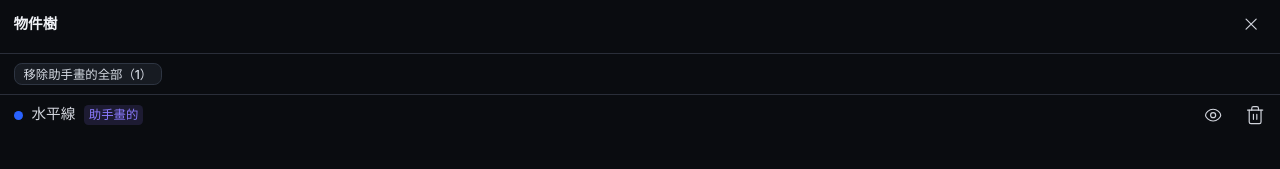
Test: 物件樹：助手畫的 › 確認時按取消：什麼都不交出，回到原本的按鈕
Click the button with test id "remove-assistant-drawings": (88, 74) 14,63 -> 162,85
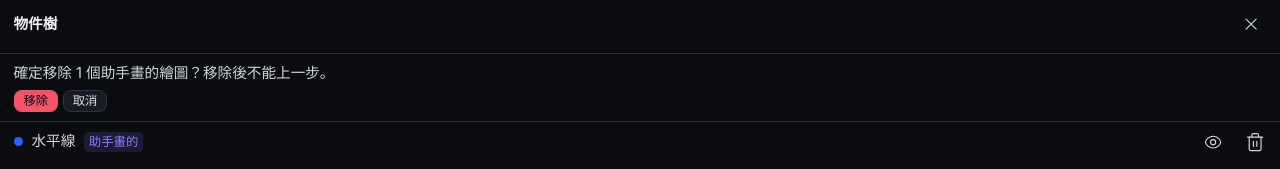
Click the button with test id "cancel-remove-assistant-drawings": (85, 101) 63,90 -> 107,112
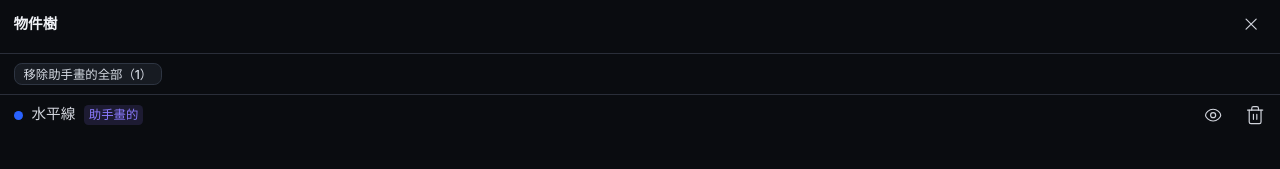
Now the button with test id "remove-assistant-drawings" reads "移除助手畫的全部（1）", box 14,63 -> 162,85
